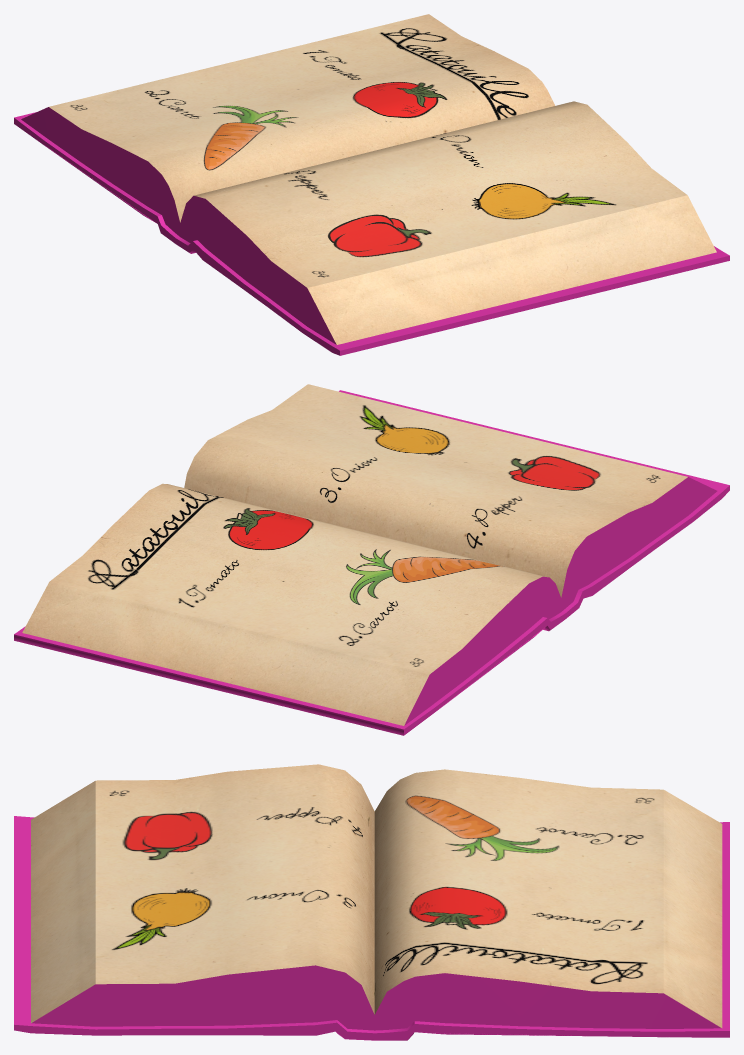
Rendered from Libro recetas.fbx.
3 views of the same model, one above another, from view 1: azimuth 30°, elevation 25°; view 2: azimuth 150°, elevation 25°; view 3: azimuth 270°, elevation 25° (orthographic). The views are drawn at different scales.
Parts seen in each view (by area): view 1: BookOpen_LP; view 2: BookOpen_LP; view 3: BookOpen_LP.
Part boxes in pixels (bbox=[...]): BookOpen_LP: bbox=[14, 14, 729, 355]; BookOpen_LP: bbox=[14, 384, 729, 735]; BookOpen_LP: bbox=[14, 764, 729, 1040].
Size of the model in its own units: 85.69 by 14.04 by 124.
